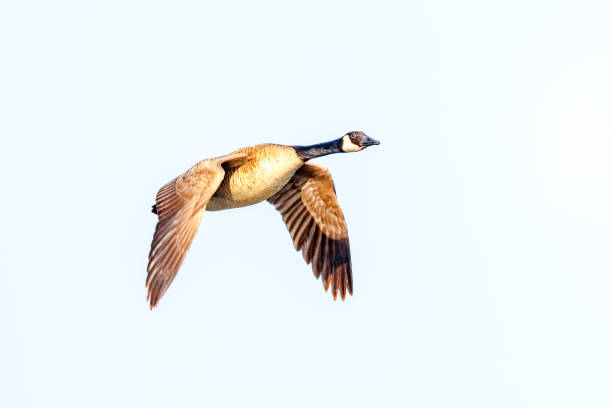goose: (142, 129, 382, 312)
